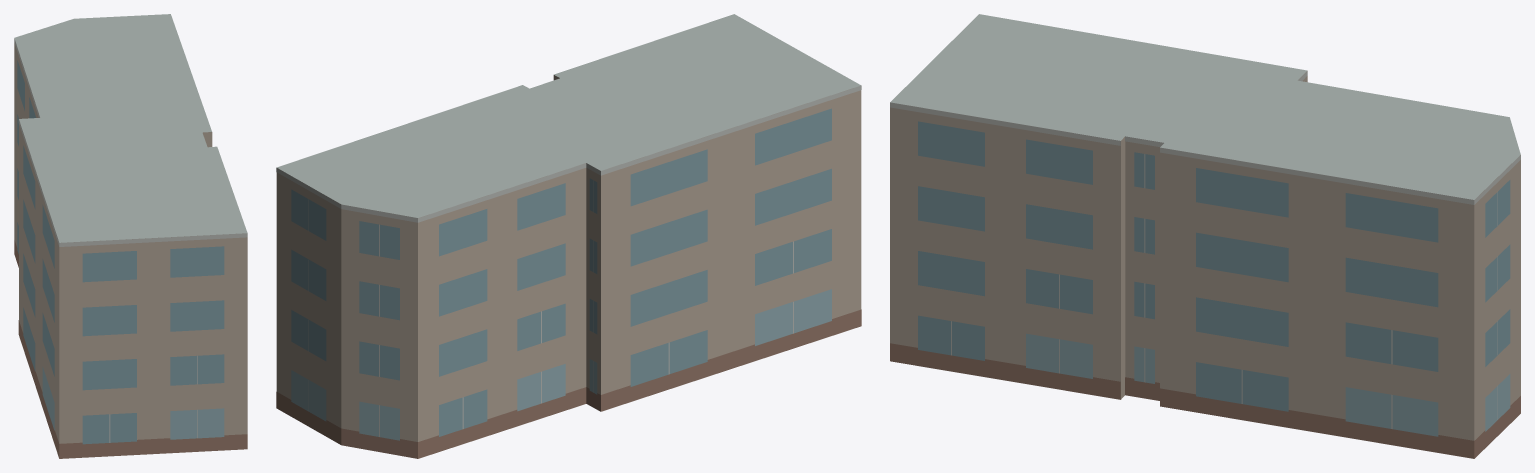
File: survey-upis-32992022.glb
3 views of the same model, side by side, from view 1: azimuth 30°, elevation 25°; view 2: azimuth 150°, elevation 25°; view 3: azimuth 270°, elevation 25° (orthographic). The views are drawn at different scales.
Parts seen in each view (by area): view 1: survey-upis-32992022.tmp; view 2: survey-upis-32992022.tmp; view 3: survey-upis-32992022.tmp.
Part boxes in pixels (bbox=[...]): survey-upis-32992022.tmp: bbox=[14, 14, 247, 458]; survey-upis-32992022.tmp: bbox=[276, 14, 861, 458]; survey-upis-32992022.tmp: bbox=[890, 14, 1520, 458].
Bounding box in the file's own units: 19.35 × 12.55 × 27.72.
